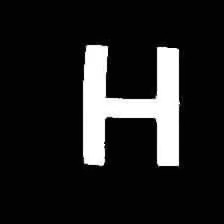LTR_H: (68, 30, 186, 177)
